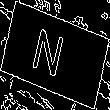N_S: (36, 24, 74, 86)
